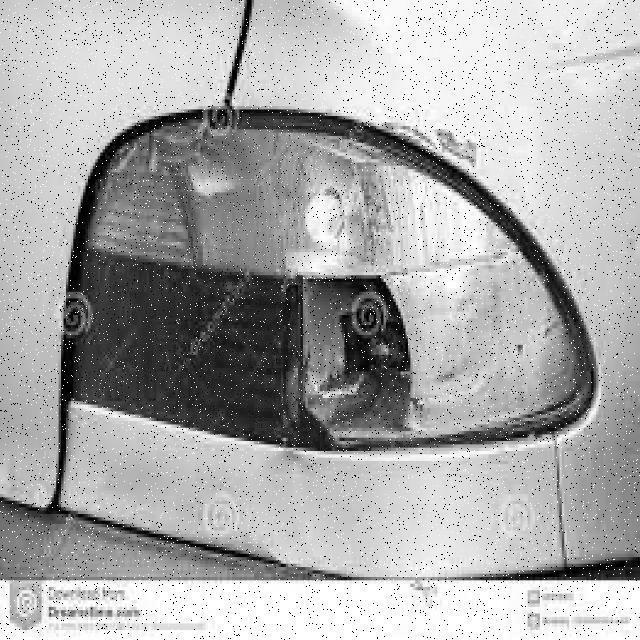Taillight-Damage: (47, 80, 596, 445)
